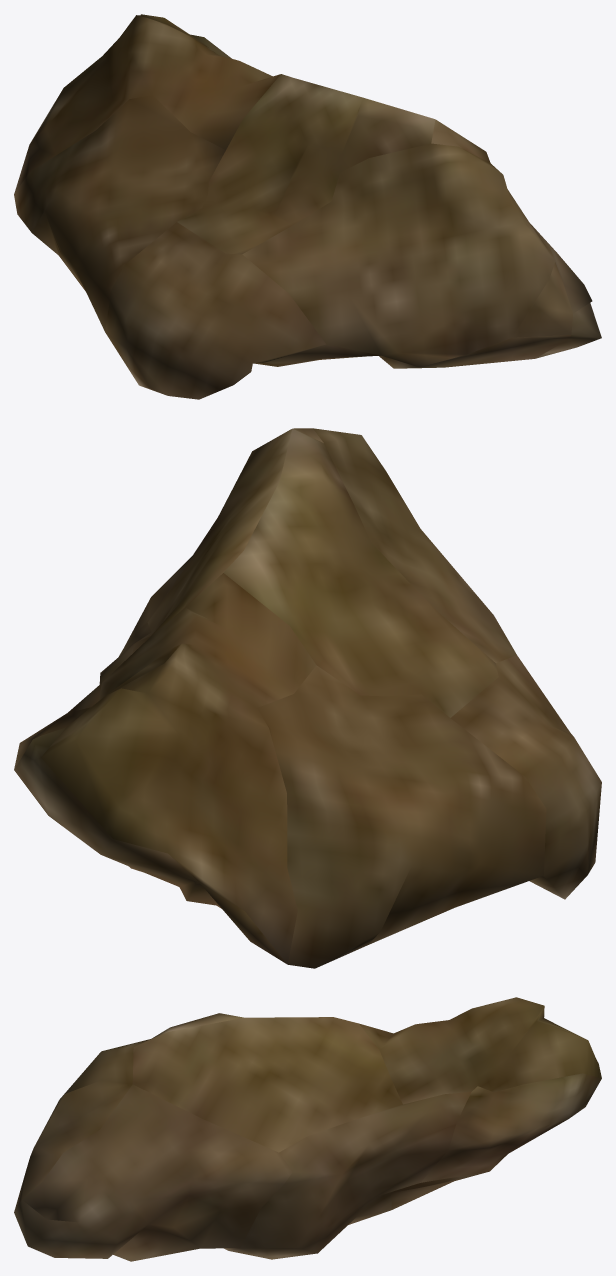
3 views of the same model, one above another, from view 1: azimuth 30°, elevation 25°; view 2: azimuth 150°, elevation 25°; view 3: azimuth 270°, elevation 25° (orthographic). The views are drawn at different scales.
Visible parts, largest first — view 1: rock_moss_set_01__a_lod2; view 2: rock_moss_set_01__a_lod2; view 3: rock_moss_set_01__a_lod2.
Boxes of the visible parts, <box> form: rock_moss_set_01__a_lod2: <box>14,14,601,399</box>; rock_moss_set_01__a_lod2: <box>14,428,601,968</box>; rock_moss_set_01__a_lod2: <box>14,997,601,1261</box>.
Size of the model in its own units: 2.23 by 1.43 by 3.36.
Materials: 1 (1 with a texture image).
